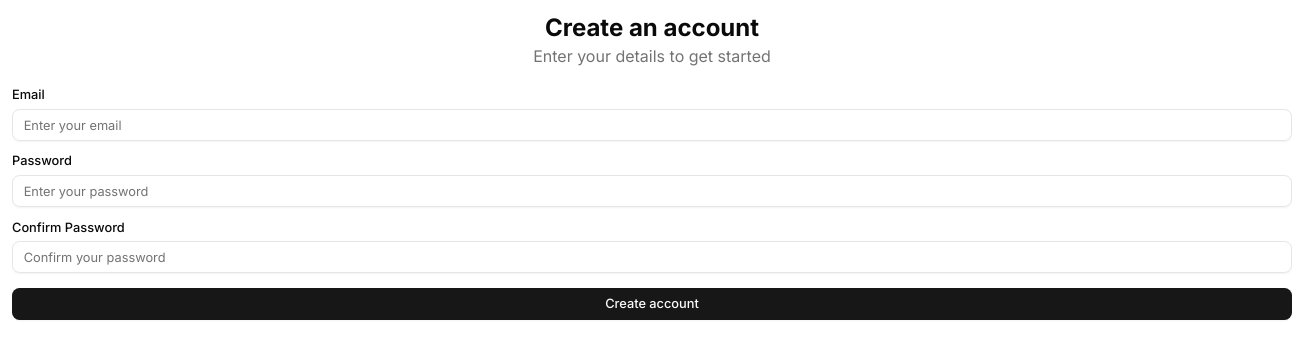
Scenario: SignUpForm › shows validation error when passwords do not match
Step 1. Type "test@example.com" into the field labelled "Email" → (652, 125), box [12,109,1292,141]
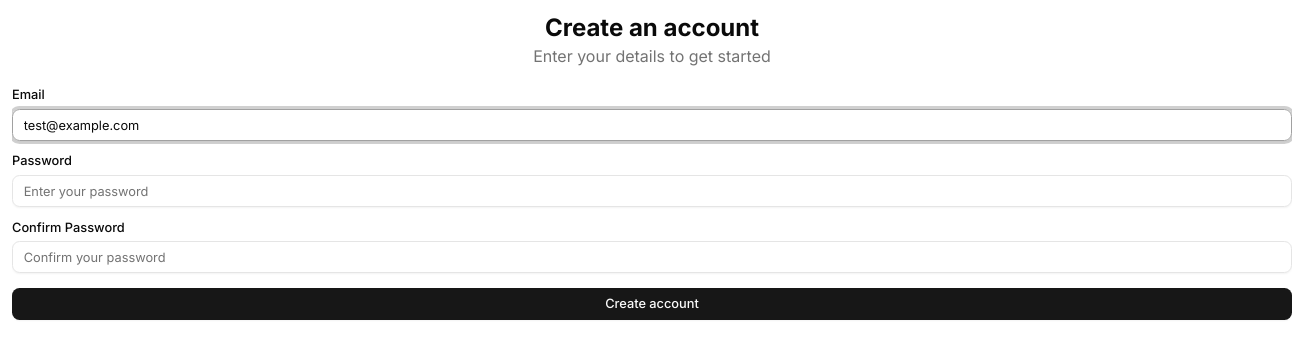
Step 2. Type "password123" into the password field labelled "Password" → (652, 191), box [12,175,1292,207]
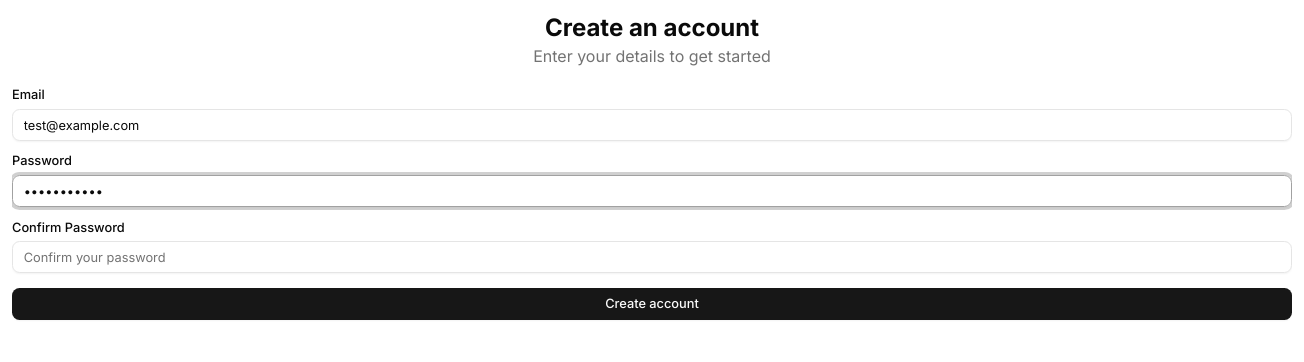
Step 3. Type "differentpassword" into the password field labelled "Confirm Password" → (652, 258), box [12,242,1292,274]
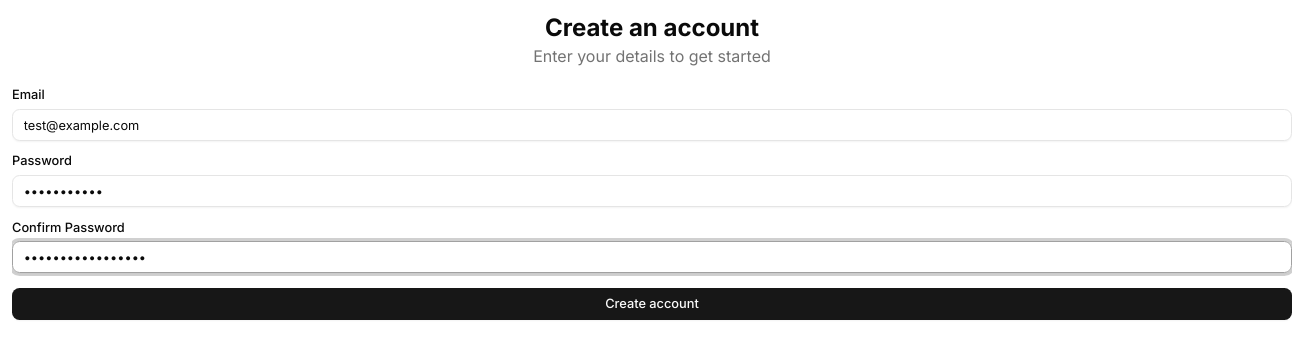
Step 4. Click the button "Create account" → (652, 304), box [12,288,1292,320]
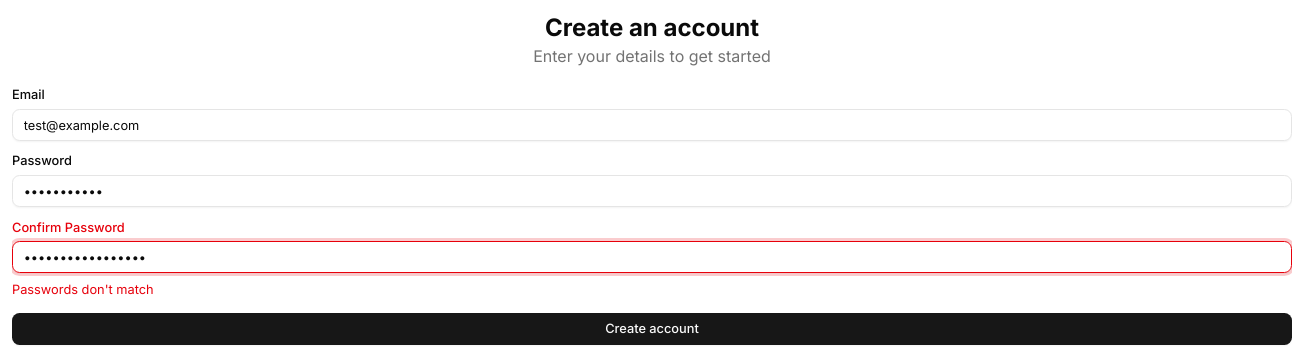
Expected: the text "Passwords don't match" is shown, [12,282,154,296]
